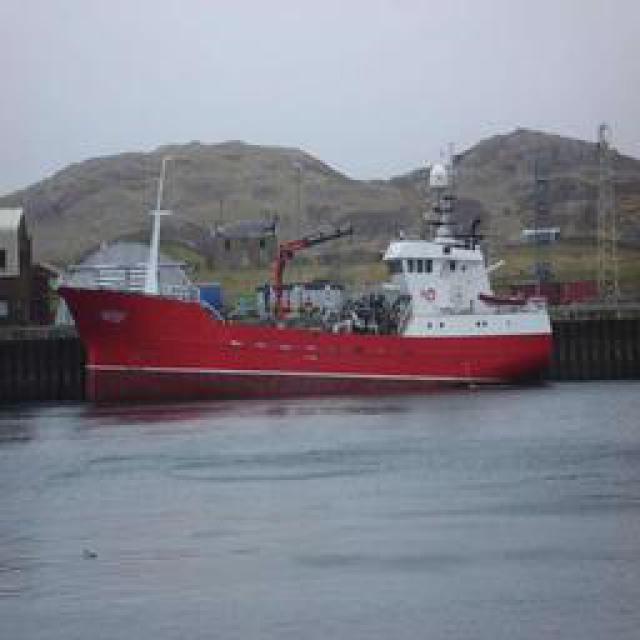Ship: (27, 156, 555, 399)
